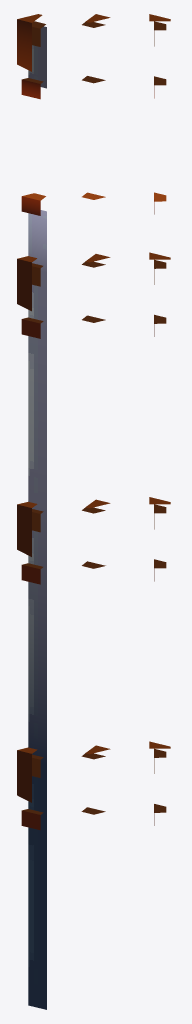
3 renders of one model, left to right at view 1: azimuth 30°, elevation 25°; view 2: azimuth 210°, elevation 25°; view 3: azimuth 330°, elevation 25°, orthographic.
Bounding box in the file's own units: 1 × 40.25 × 0.6875.
Materials: 2 (2 with a texture image).
